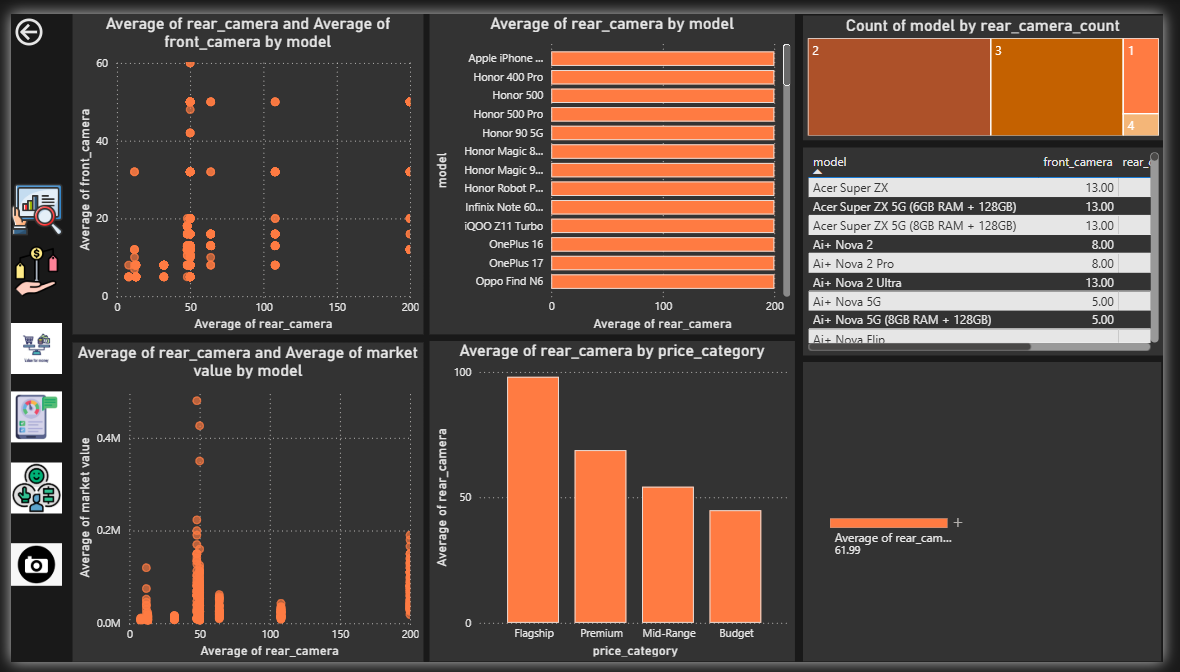

Layout of this report page (visuals, bound fields, positions):
{"tool":"powerbi","page":{"name":"Camera Deep Dive","canvas":[1280,720],"ordinal":5},"visuals":[{"type":"scatterChart","fields":{"X":["Avg(smartprix_smartphones_april_202.rear_camera)"],"Y":["Avg(smartprix_smartphones_april_202.front_camera)"],"Category":["Model.model"]},"box":[68.4,0,389.7,356.3],"z":0},{"type":"scatterChart","fields":{"Category":["Model.model"],"X":["Avg(smartprix_smartphones_april_202.rear_camera)"],"Y":["Avg(smartprix_smartphones_april_202.market value)"]},"box":[68.4,364.2,389.7,354.7],"z":1000},{"type":"treemap","fields":{"Group":["smartprix_smartphones_april_202.rear_camera_count"],"Values":["CountNonNull(Model.model)"]},"box":[880.8,1.9,400,138.5],"z":2000},{"type":"barChart","fields":{"Category":["Model.model"],"Y":["Avg(smartprix_smartphones_april_202.rear_camera)"]},"box":[465.4,0,405.8,355.8],"z":3000},{"type":"columnChart","fields":{"Category":["Price Category.price_category"],"Y":["Avg(smartprix_smartphones_april_202.rear_camera)"]},"box":[465.4,363.5,405.8,355.8],"z":4000},{"type":"tableEx","fields":{"Values":["Model.model","smartprix_smartphones_april_202.front_camera","smartprix_smartphones_april_202.rear_camera","smartprix_smartphones_april_202.market value","smartprix_smartphones_april_202.vfm_score"]},"box":[880.8,148.1,400,230.8],"z":5000},{"type":"decompositionTreeVisual","fields":{"Analyze":["Avg(smartprix_smartphones_april_202.rear_camera)"],"ExplainBy":["Brand.brand_name","Price Category.price_category","smartprix_smartphones_april_202.ram"]},"box":[880.8,386.5,398.1,332.7],"z":6000},{"type":"actionButton","box":[0,0,100,40],"z":7000},{"type":"image","box":[0,182.9,57.3,68.4],"z":15000},{"type":"image","box":[0,310,56.7,123.3],"z":16000},{"type":"image","box":[0,241.7,56.7,88.3],"z":17000},{"type":"image","box":[0,410,56.7,75],"z":18000},{"type":"image","box":[0,485,56.7,83.3],"z":19000},{"type":"image","box":[0,556.7,56.7,110],"z":20000},{"type":"pageNavigator","box":[0,173.3,56.7,473.3],"z":20500}]}

Visuals, with their boxes on the page's 1280x720 design canvas (x1, y1, x2, y2). These are canvas units, not pixel positions in the 1180x672 screenshot, which may show the page scaled, cropped or inside an application window:
scatterChart - Avg(smartprix_smartphones_april_202.rear_camera) x Avg(smartprix_smartphones_april_202.front_camera): pyautogui.locateOnScreen(68, 0, 458, 356)
scatterChart - Model.model x Avg(smartprix_smartphones_april_202.rear_camera): pyautogui.locateOnScreen(68, 364, 458, 719)
treemap - smartprix_smartphones_april_202.rear_camera_count x CountNonNull(Model.model): pyautogui.locateOnScreen(881, 2, 1281, 140)
barChart - Model.model x Avg(smartprix_smartphones_april_202.rear_camera): pyautogui.locateOnScreen(465, 0, 871, 356)
columnChart - Price Category.price_category x Avg(smartprix_smartphones_april_202.rear_camera): pyautogui.locateOnScreen(465, 364, 871, 719)
tableEx - Model.model x smartprix_smartphones_april_202.front_camera: pyautogui.locateOnScreen(881, 148, 1281, 379)
decompositionTreeVisual - Avg(smartprix_smartphones_april_202.rear_camera) x Brand.brand_name: pyautogui.locateOnScreen(881, 386, 1279, 719)
actionButton: pyautogui.locateOnScreen(0, 0, 100, 40)
image: pyautogui.locateOnScreen(0, 183, 57, 251)
image: pyautogui.locateOnScreen(0, 310, 57, 433)
image: pyautogui.locateOnScreen(0, 242, 57, 330)
image: pyautogui.locateOnScreen(0, 410, 57, 485)
image: pyautogui.locateOnScreen(0, 485, 57, 568)
image: pyautogui.locateOnScreen(0, 557, 57, 667)
pageNavigator: pyautogui.locateOnScreen(0, 173, 57, 647)
